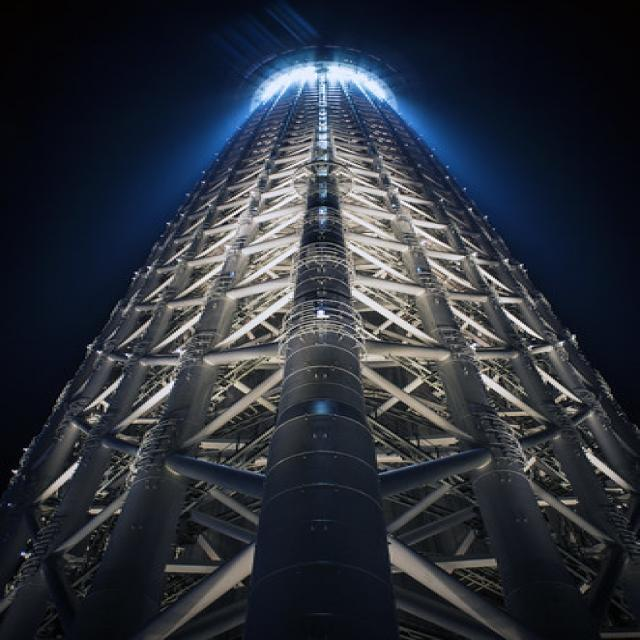Normal_building: (9, 57, 640, 640)
